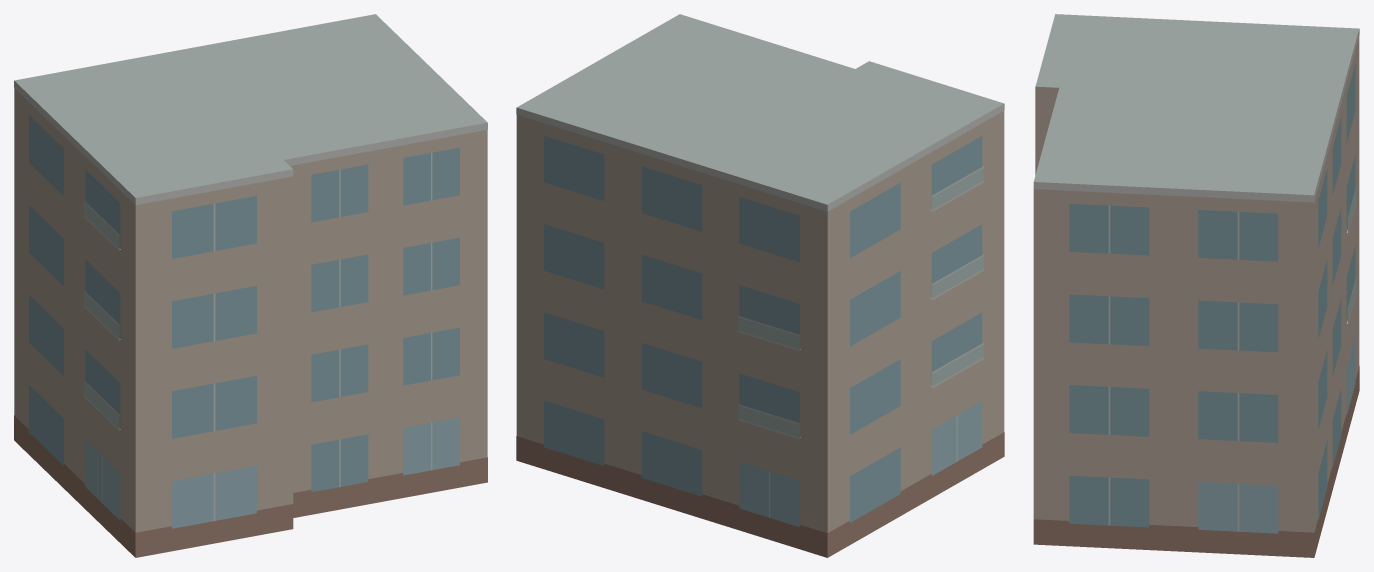
Rendered from survey-upis-32804982.glb.
The picture shows the model from 3 angles, left to right: view 1: azimuth 30°, elevation 25°; view 2: azimuth 150°, elevation 25°; view 3: azimuth 270°, elevation 25°; orthographic projection. The views are drawn at different scales.
Parts seen in each view (by area): view 1: survey-upis-32804982.tmp; view 2: survey-upis-32804982.tmp; view 3: survey-upis-32804982.tmp.
Part boxes in pixels (left/top/right/bottom): survey-upis-32804982.tmp: left=14, top=14, right=487, bottom=557; survey-upis-32804982.tmp: left=516, top=14, right=1004, bottom=557; survey-upis-32804982.tmp: left=1033, top=14, right=1359, bottom=557.
Size of the model in its own units: 13.2 by 12.3 by 10.02.
